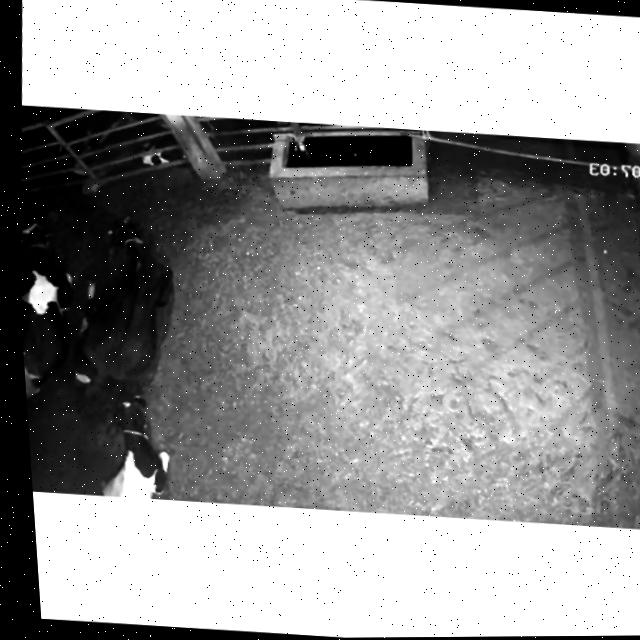lay: (47, 179, 204, 424), (10, 144, 93, 431)
